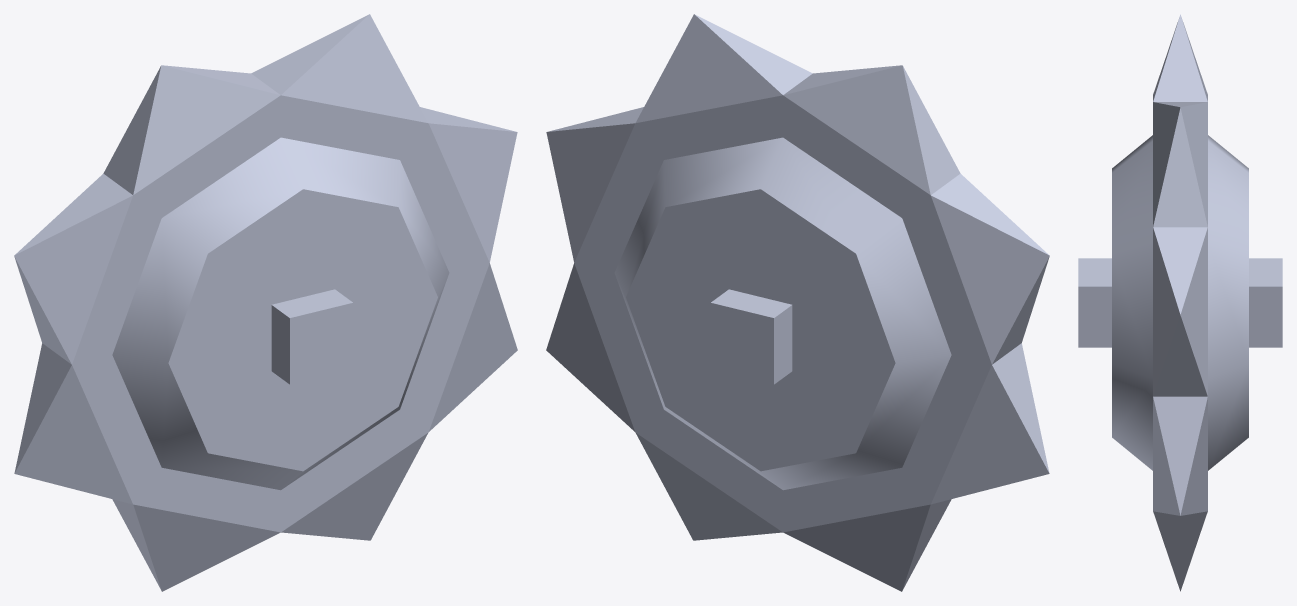
The model's file is saw.fbx.
3 views of the same model, side by side, from view 1: azimuth 30°, elevation 25°; view 2: azimuth 150°, elevation 25°; view 3: azimuth 270°, elevation 25° (orthographic). The views are drawn at different scales.
Visible parts, largest first — view 1: saw; view 2: saw; view 3: saw.
Part boxes in pixels (x1,y1,x2,y2): saw: (14, 14, 517, 591); saw: (546, 14, 1049, 591); saw: (1078, 14, 1282, 591).
Size of the model in its own units: 7.94 by 7.94 by 3.03.
